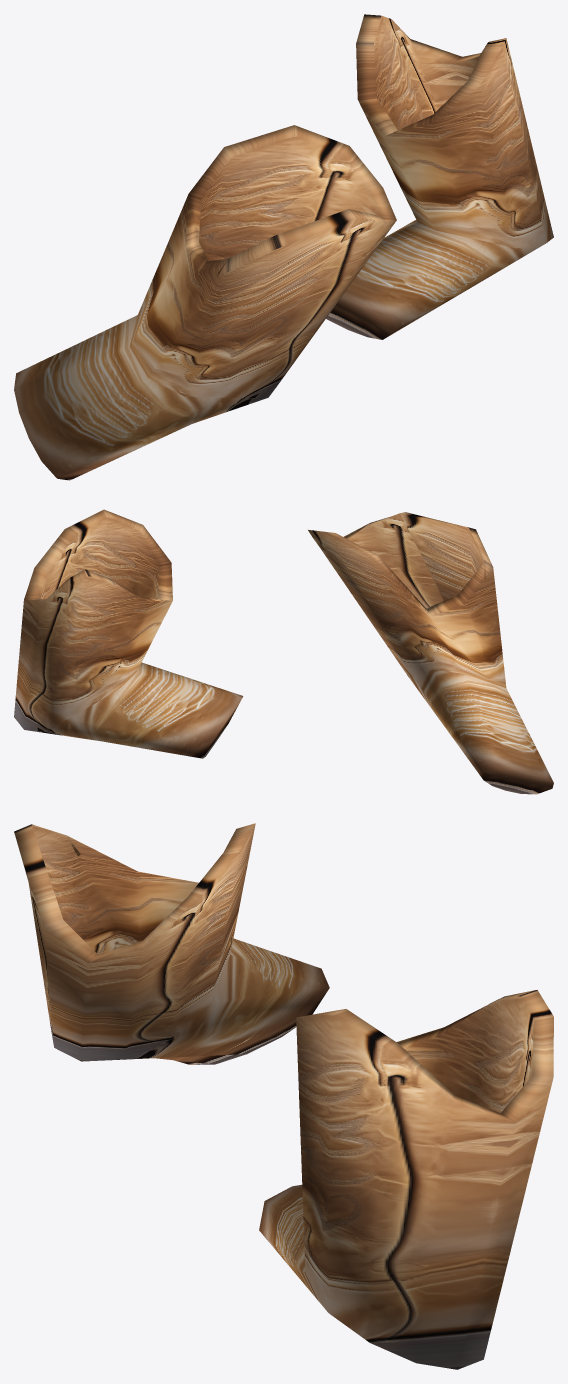
The model's file is m-shoes6.fbx.
3 renders of one model, top to bottom at view 1: azimuth 30°, elevation 25°; view 2: azimuth 150°, elevation 25°; view 3: azimuth 270°, elevation 25°, orthographic. The views are drawn at different scales.
Visible parts, largest first — view 1: M.Shoes.012; view 2: M.Shoes.012; view 3: M.Shoes.012.
Part boxes in pixels (box(x1,y1,x2,y2)): M.Shoes.012: box(14, 14, 553, 480); M.Shoes.012: box(14, 509, 553, 794); M.Shoes.012: box(14, 823, 553, 1369).
Size of the model in its own units: 569 by 262 by 346.
